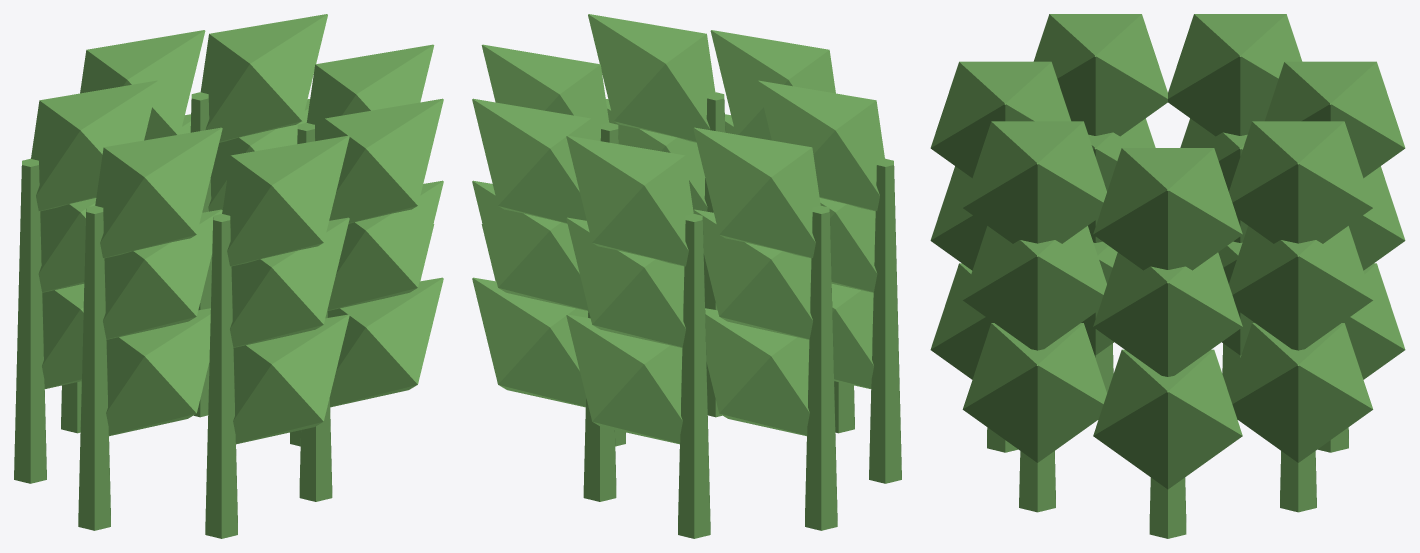
Rendered from Herbs.fbx.
3 views of the same model, side by side, from view 1: azimuth 30°, elevation 25°; view 2: azimuth 150°, elevation 25°; view 3: azimuth 270°, elevation 25° (orthographic). The views are drawn at different scales.
Parts seen in each view (by area): view 1: Herbs.002; view 2: Herbs.002; view 3: Herbs.002.
Boxes of the visible parts, <box> form: Herbs.002: <box>14,14,443,538</box>; Herbs.002: <box>472,14,901,538</box>; Herbs.002: <box>930,14,1405,538</box>.
Size of the model in its own units: 0.5447 by 0.4886 by 0.5127.
